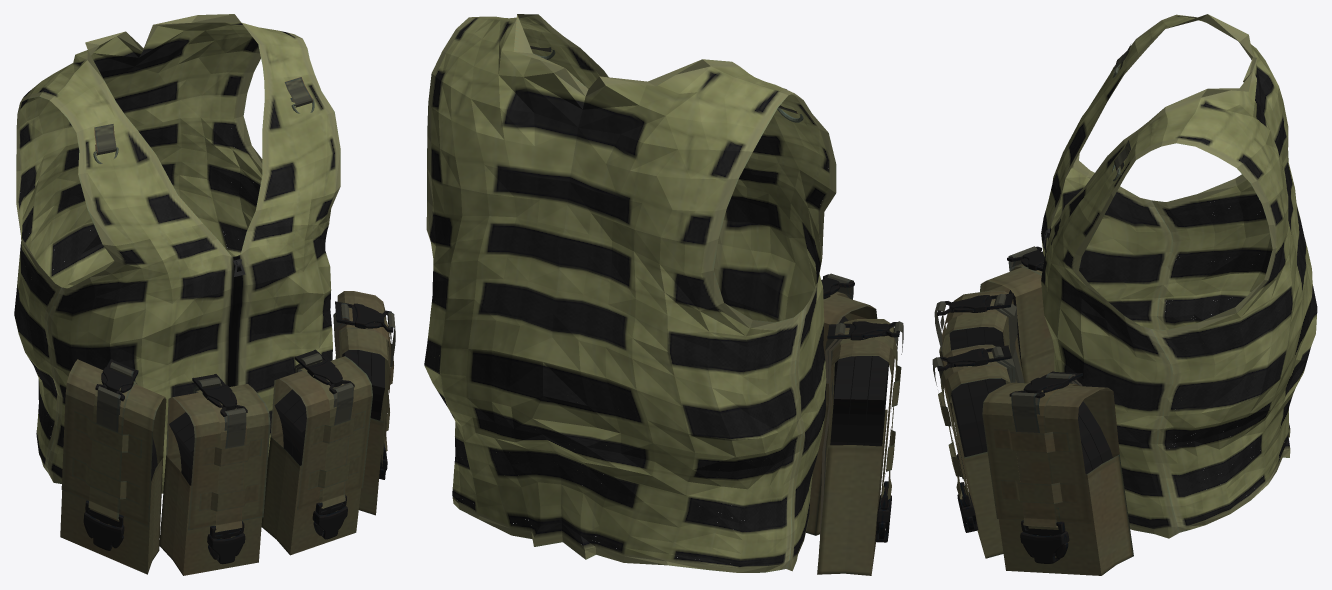
Rendered from mhw_mindfront_tactical_vest_female.glb.
3 views of the same model, side by side, from view 1: azimuth 30°, elevation 25°; view 2: azimuth 150°, elevation 25°; view 3: azimuth 270°, elevation 25° (orthographic). The views are drawn at different scales.
Parts seen in each view (by area): view 1: mhw_mindfront_tactical_vest_female; view 2: mhw_mindfront_tactical_vest_female; view 3: mhw_mindfront_tactical_vest_female.
Part boxes in pixels (left/top/right/bottom): mhw_mindfront_tactical_vest_female: left=14, top=14, right=395, bottom=575; mhw_mindfront_tactical_vest_female: left=424, top=14, right=903, bottom=575; mhw_mindfront_tactical_vest_female: left=932, top=14, right=1317, bottom=575.
Size of the model in its own units: 0.4463 by 0.5918 by 0.4444.
Materials: 1 (1 with a texture image).
